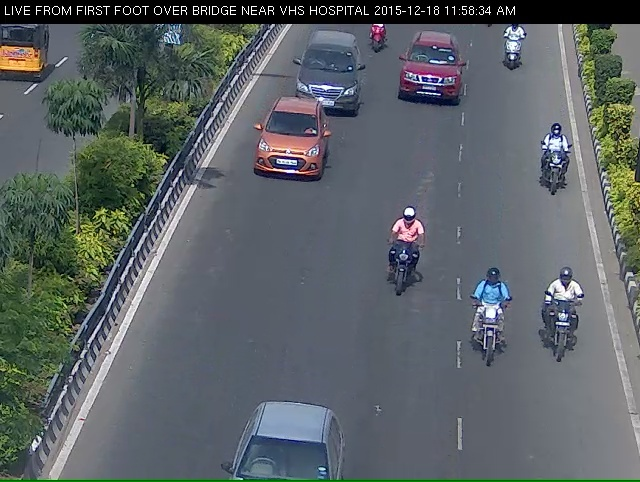Car: (251, 117, 319, 201), (292, 47, 358, 122), (400, 34, 464, 111)
Person: (544, 286, 588, 392), (466, 302, 517, 388), (377, 232, 409, 317), (535, 129, 569, 203), (496, 26, 525, 79), (357, 22, 387, 66)
